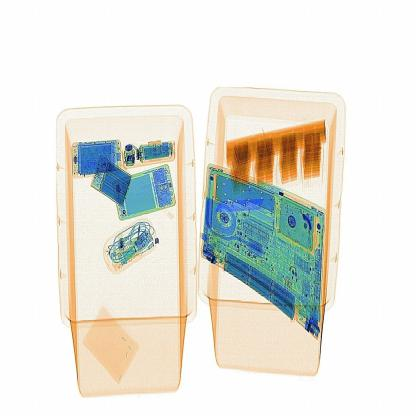pliers: (213, 190, 271, 216)
